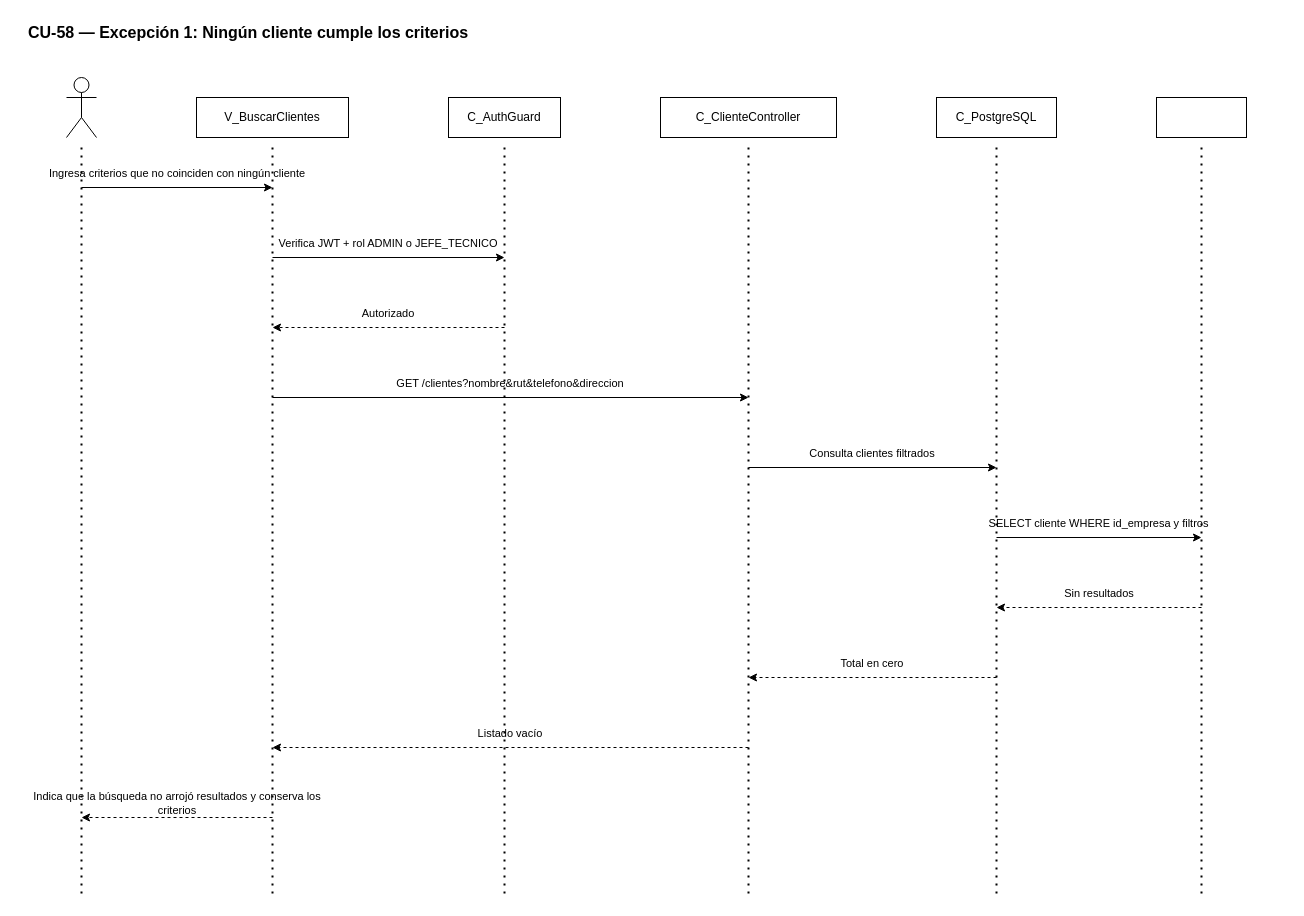
The diagram is 1304 pixels wide and 916 high, and some of its shapes have lost their labels. The centre of each missing label's shape, as x and y in pixels:
cliente: pixel 1201 117
Jefe Técnico: pixel 81 107
